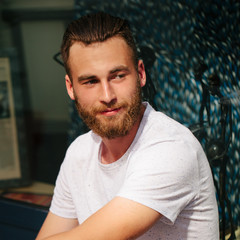young: (49, 15, 150, 146)
